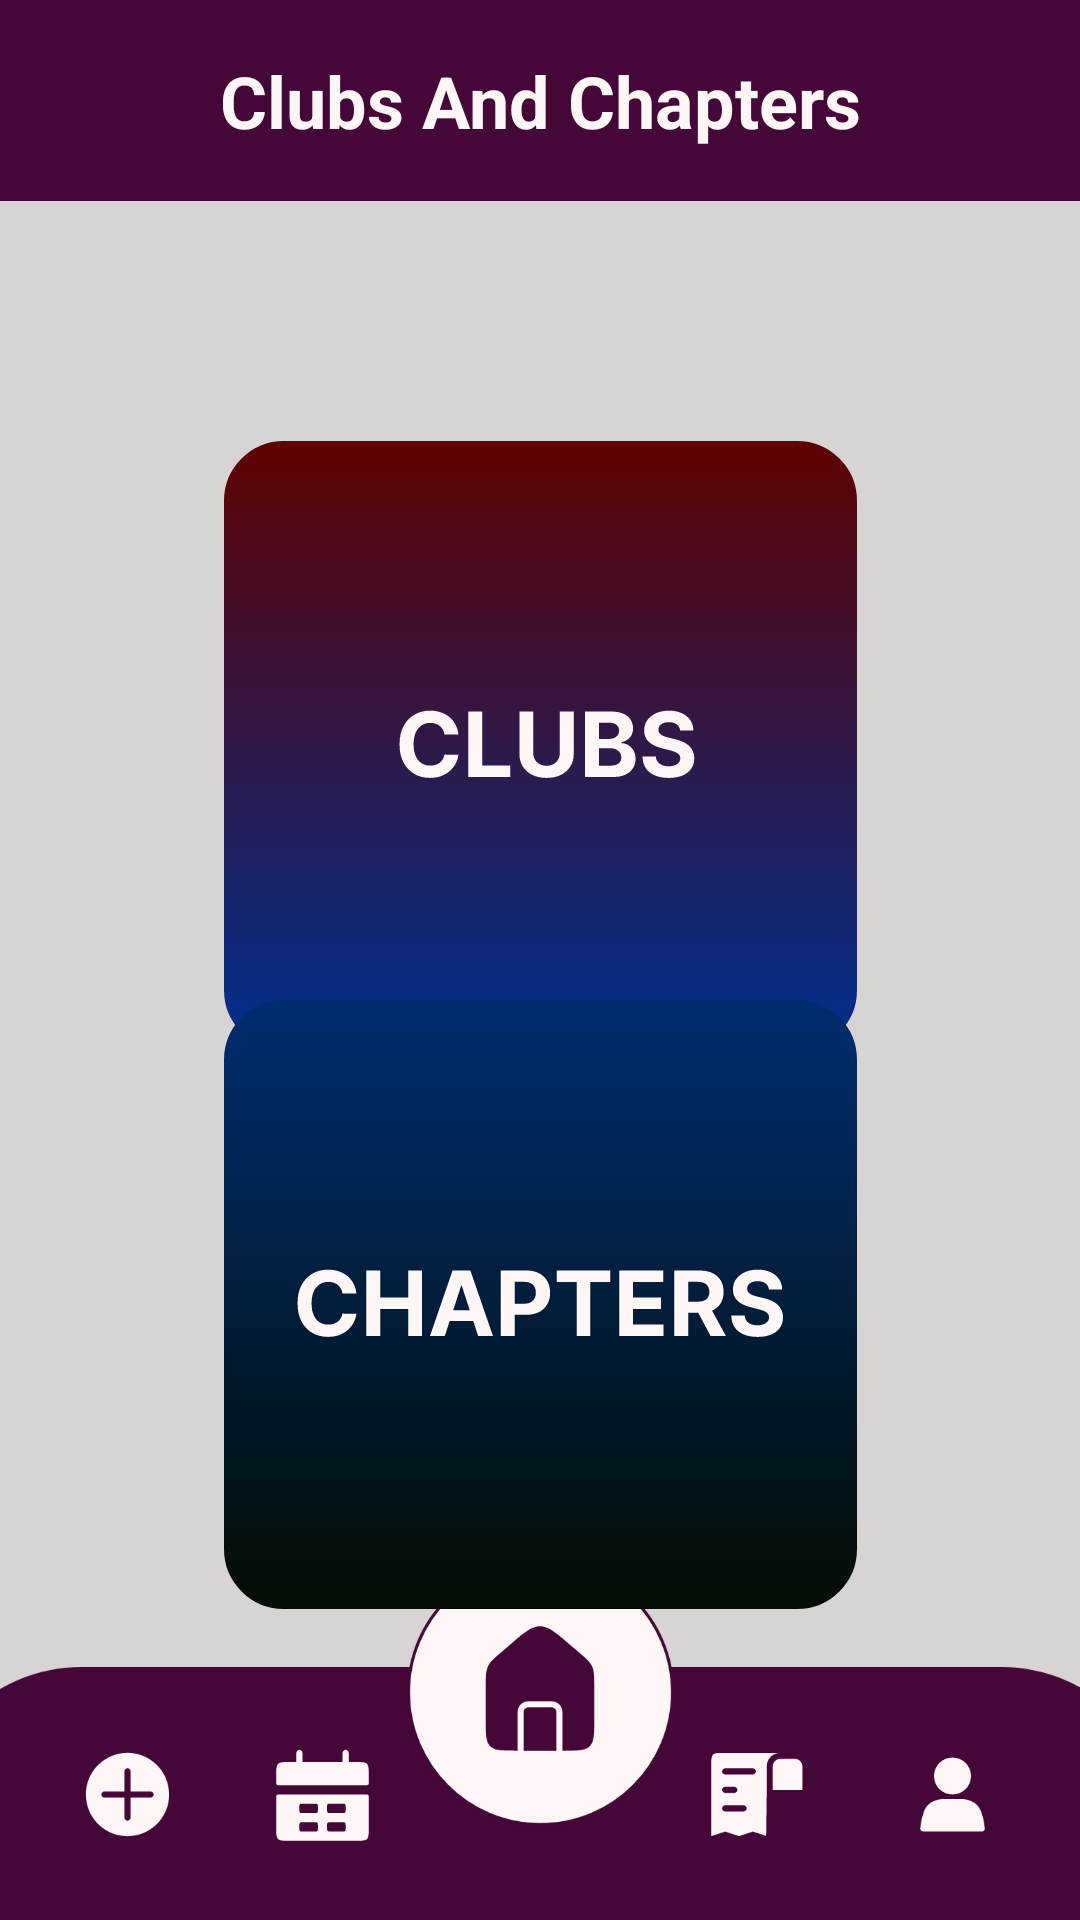

Screen size 1080px x 1920px. Icon name, then its center in pixels as (x=x, y=y):
acc: (x=952, y=1794)
add: (x=127, y=1794)
event: (x=322, y=1795)
